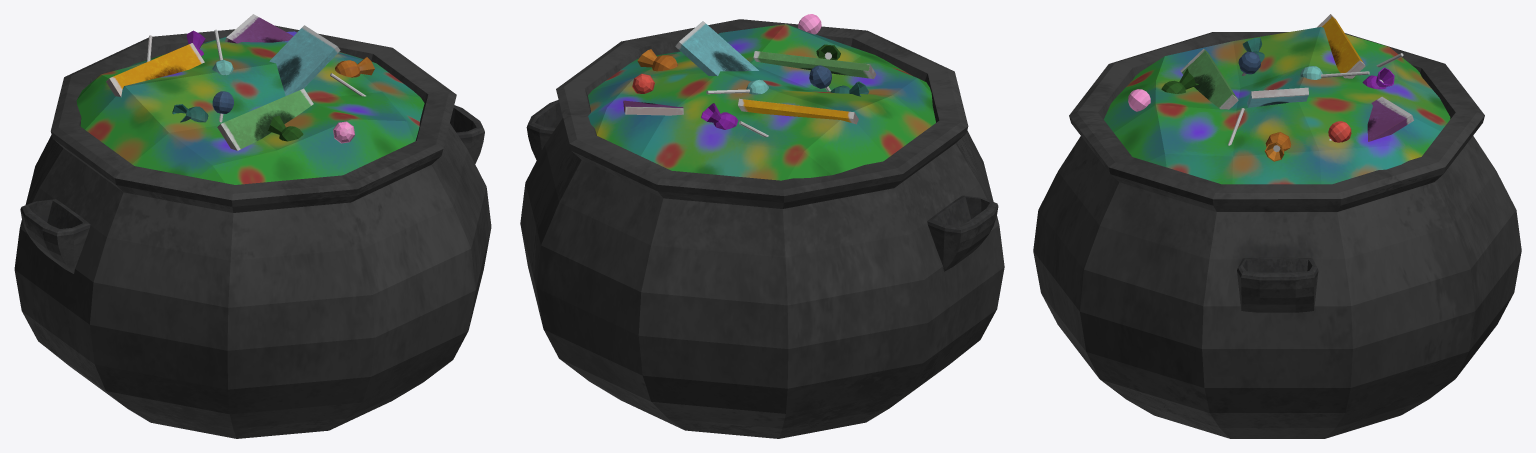
The model's file is CandyBowl3.fbx.
3 renders of one model, left to right at view 1: azimuth 30°, elevation 25°; view 2: azimuth 150°, elevation 25°; view 3: azimuth 270°, elevation 25°, orthographic.
Visible parts, largest first — view 1: CandyBowl03_Model; view 2: CandyBowl03_Model; view 3: CandyBowl03_Model.
Boxes of the visible parts, box(x1,y1,x2,y2) form: CandyBowl03_Model: box(14, 14, 491, 438); CandyBowl03_Model: box(520, 14, 1004, 438); CandyBowl03_Model: box(1033, 14, 1521, 438).
Size of the model in its own units: 29.63 by 28.52 by 20.79.
